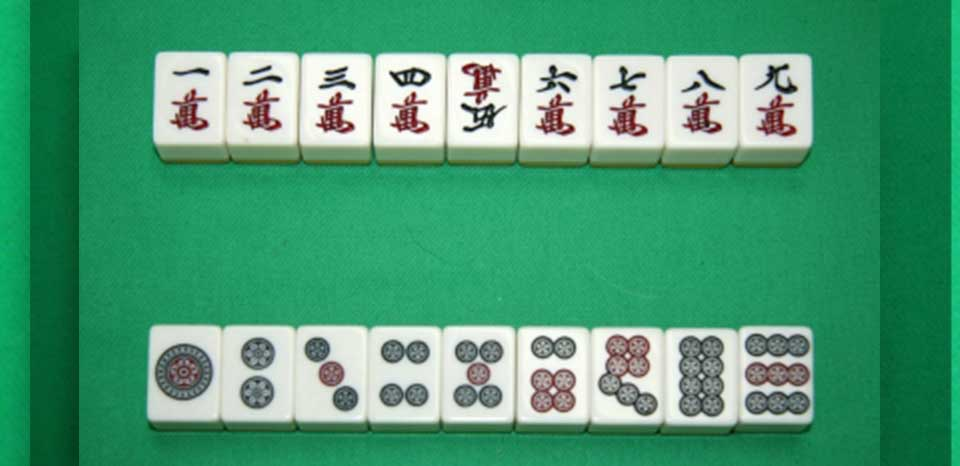man_1: (152, 51, 225, 142)
man_2: (227, 53, 299, 149)
man_3: (300, 54, 370, 147)
man_4: (372, 56, 443, 146)
man_5: (450, 56, 520, 149)
man_6: (520, 53, 591, 149)
man_7: (591, 53, 666, 151)
man_8: (666, 54, 740, 151)
man_9: (740, 54, 815, 151)
pin_1: (150, 326, 222, 426)
pin_2: (225, 326, 293, 422)
pin_3: (297, 326, 368, 424)
pin_4: (379, 331, 441, 426)
pin_5: (440, 326, 520, 420)
pin_6: (520, 329, 584, 419)
pin_7: (586, 329, 666, 424)
pin_8: (668, 329, 743, 428)
pin_9: (741, 329, 816, 426)
